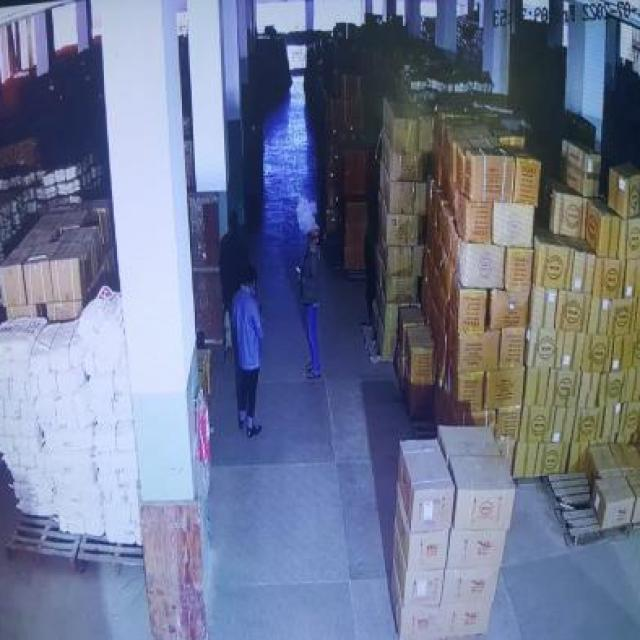fire: (294, 190, 317, 237)
